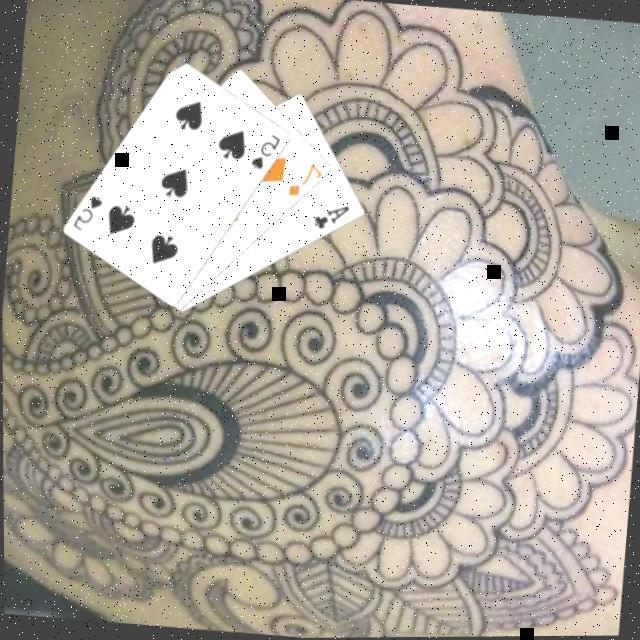5S: (247, 130, 285, 175), (70, 191, 108, 236)
7D: (286, 159, 326, 203)
AC: (311, 200, 355, 235)
